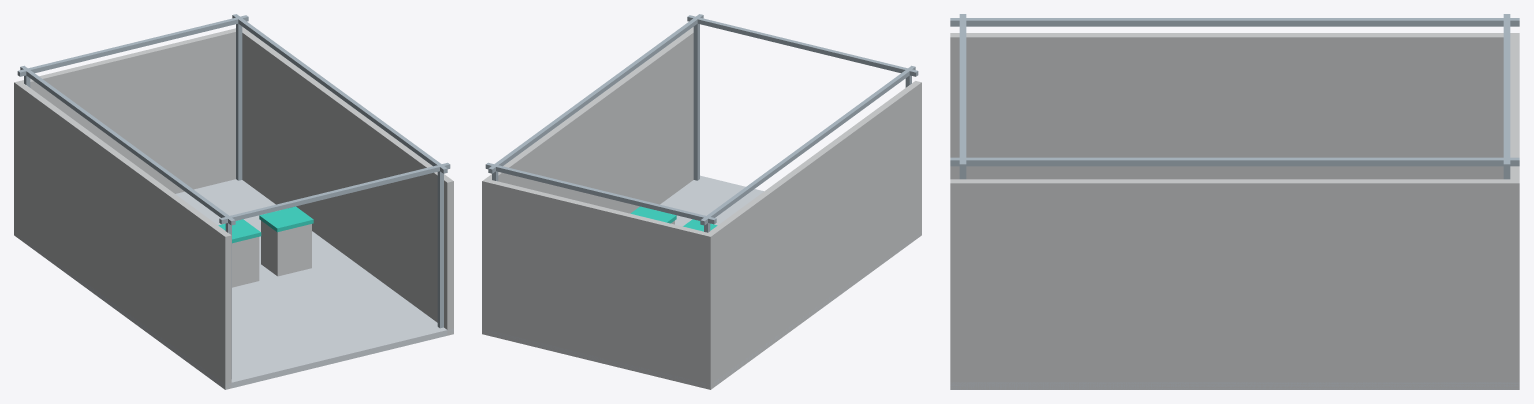
3 renders of one model, left to right at view 1: azimuth 30°, elevation 25°; view 2: azimuth 150°, elevation 25°; view 3: azimuth 270°, elevation 25°, orthographic. The views are drawn at different scales.
Parts seen in each view (by area): view 1: Exhibition Booth Concept; view 2: Exhibition Booth Concept; view 3: Exhibition Booth Concept.
Part boxes in pixels (<box>): Exhibition Booth Concept: <box>14,14,453,389</box>; Exhibition Booth Concept: <box>482,14,921,389</box>; Exhibition Booth Concept: <box>950,14,1519,389</box>.
Size of the model in its own units: 5 by 3.49 by 8.
